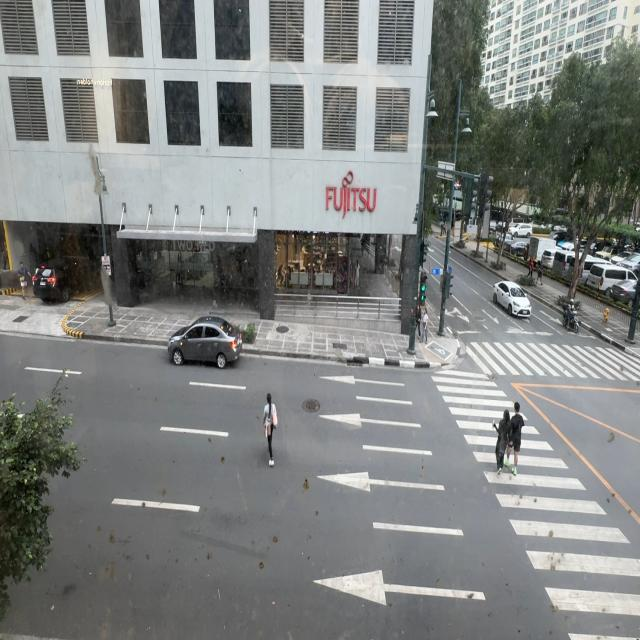crossing: (496, 407, 514, 487), (506, 402, 524, 476)
jaywalking: (259, 389, 281, 471)
waiting: (422, 307, 428, 343)
